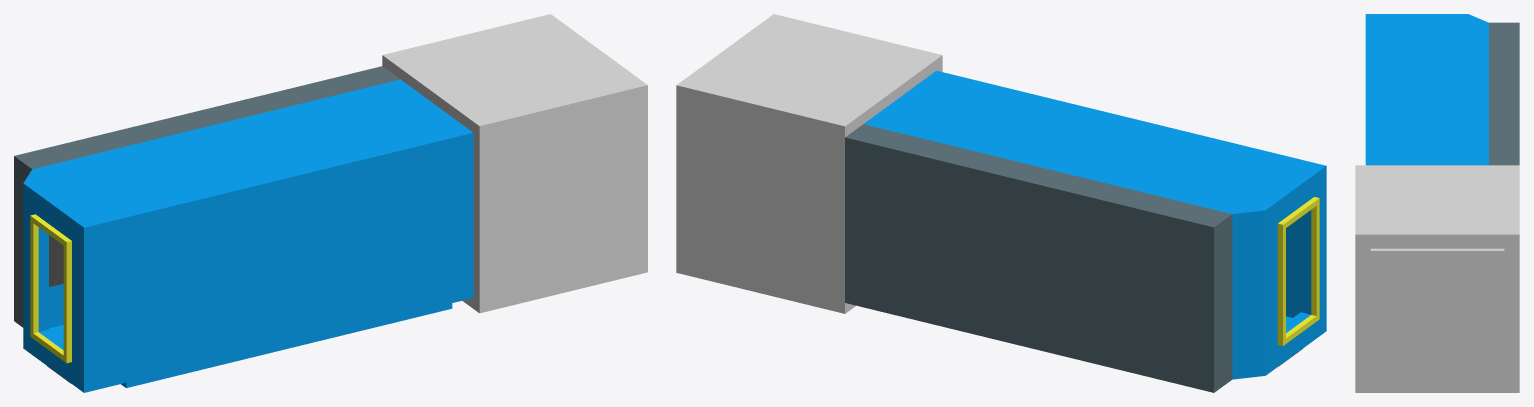
The model's file is cnc_vertical_machining_center_4_state_2.dae.
3 renders of one model, left to right at view 1: azimuth 30°, elevation 25°; view 2: azimuth 150°, elevation 25°; view 3: azimuth 270°, elevation 25°, orthographic. The views are drawn at different scales.
Visible parts, largest first — view 1: coords_ME_ID11_MA_material_6, coords_ME_ID19_MA_material_8, coords_ME_ID3_MA_material_16, coords_ME_ID79_MA_material_3, coords_ME_ID85_MA_material_6, coords_ME_ID91_MA_material_3, coords_ME_ID41_MA_material_6, coords_ME_ID71_MA_material; view 2: coords_ME_ID3_MA_material_16, coords_ME_ID19_MA_material_8, coords_ME_ID11_MA_material_6, coords_ME_ID79_MA_material_3, coords_ME_ID41_MA_material_6, coords_ME_ID85_MA_material_6, coords_ME_ID91_MA_material_3; view 3: coords_ME_ID19_MA_material_8, coords_ME_ID11_MA_material_6, coords_ME_ID59_MA_material_8, coords_ME_ID3_MA_material_16.
Part boxes in pixels (box(x1,y1,x2,y2)): coords_ME_ID11_MA_material_6: box(23, 79, 473, 392); coords_ME_ID19_MA_material_8: box(382, 14, 647, 313); coords_ME_ID3_MA_material_16: box(14, 66, 400, 327); coords_ME_ID79_MA_material_3: box(30, 214, 71, 363); coords_ME_ID85_MA_material_6: box(38, 227, 63, 349); coords_ME_ID91_MA_material_3: box(33, 223, 63, 355); coords_ME_ID41_MA_material_6: box(49, 283, 63, 339); coords_ME_ID71_MA_material: box(49, 235, 63, 286); coords_ME_ID3_MA_material_16: box(845, 124, 1232, 392); coords_ME_ID19_MA_material_8: box(676, 14, 942, 313); coords_ME_ID11_MA_material_6: box(864, 70, 1326, 379); coords_ME_ID79_MA_material_3: box(1277, 197, 1319, 345); coords_ME_ID41_MA_material_6: box(1286, 218, 1300, 322); coords_ME_ID85_MA_material_6: box(1286, 210, 1311, 332); coords_ME_ID91_MA_material_3: box(1286, 206, 1316, 338); coords_ME_ID19_MA_material_8: box(1355, 165, 1519, 392); coords_ME_ID11_MA_material_6: box(1365, 14, 1488, 165); coords_ME_ID59_MA_material_8: box(1370, 248, 1504, 381); coords_ME_ID3_MA_material_16: box(1489, 22, 1519, 165).
Bounding box in the file's own units: 85.04 × 27.56 × 25.2.
